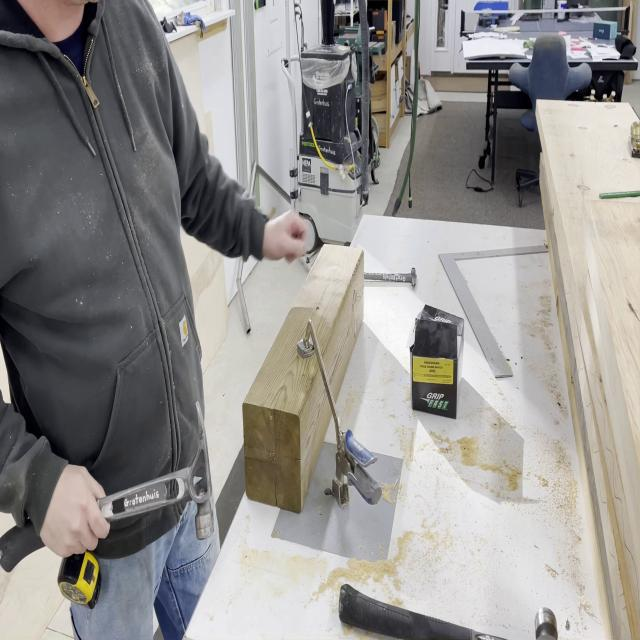hammer: (0, 400, 215, 576), (338, 580, 558, 640)
